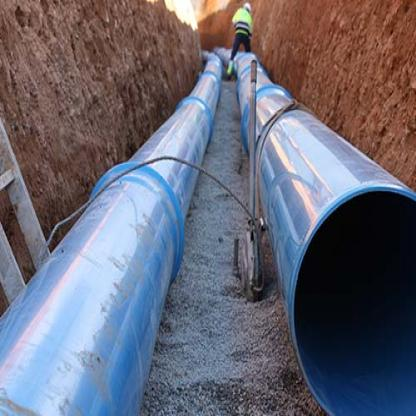PVC: (0, 50, 222, 415), (213, 48, 415, 415)
